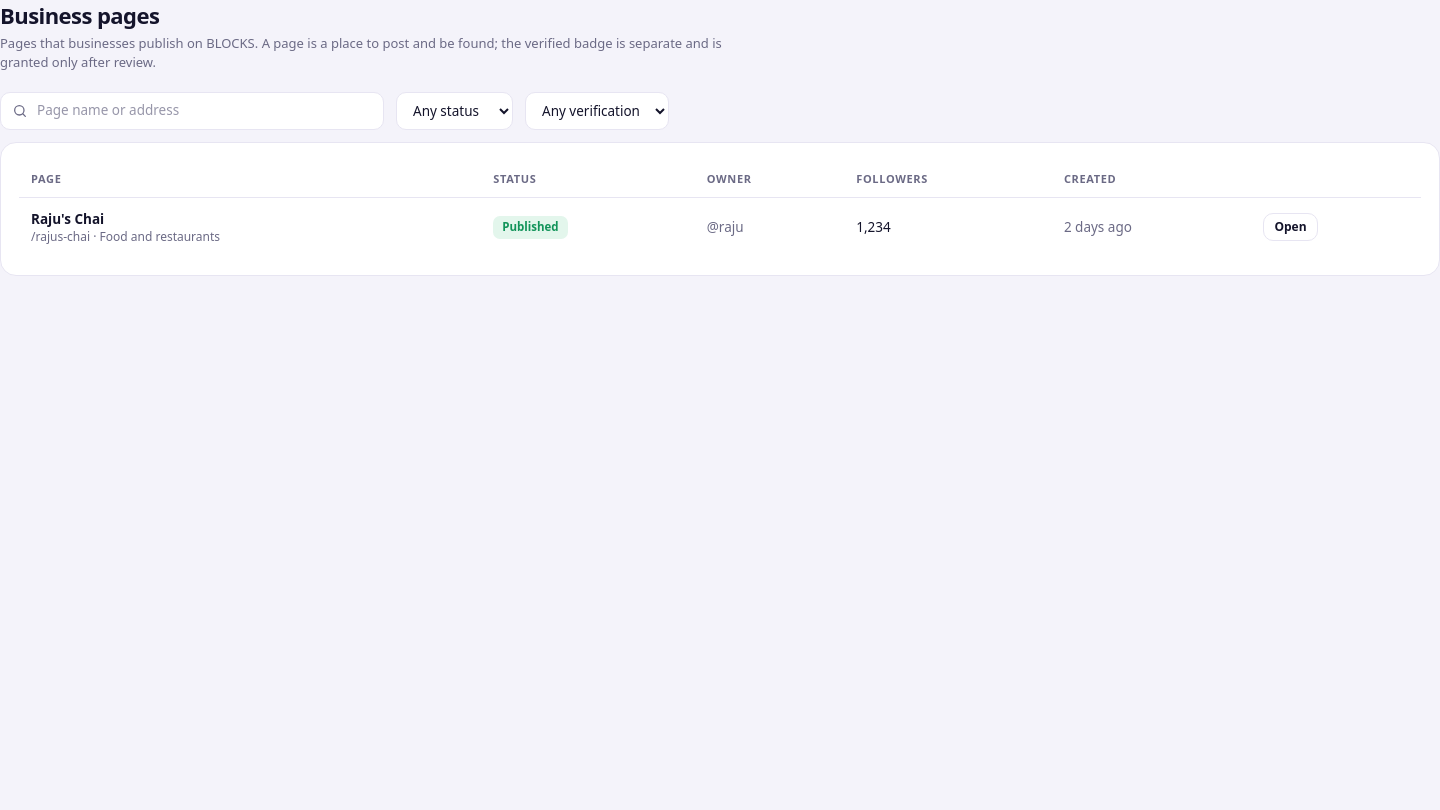
business pages › shows the page, its campaigns and its verification history
The width and height of the screenshot is (1440, 810).
Click the button with aria-label "Open Raju" at {"x": 1291, "y": 227}, box [1264, 213, 1318, 241]
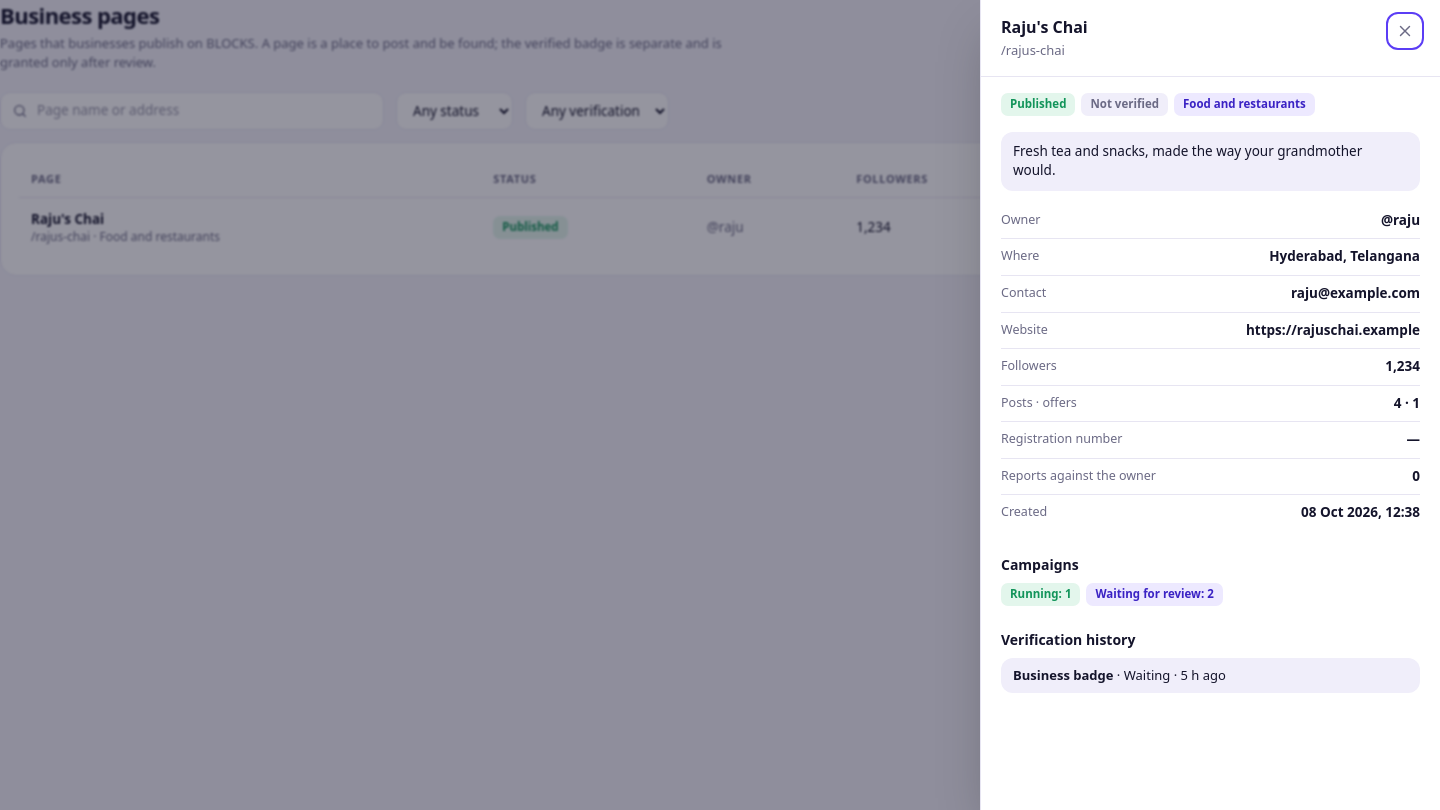
Expected: the dialog "Raju's Chai" is shown, [980, 0, 1439, 809]
Expected: the text "Fresh tea and snacks, made the way your grandmother would." is shown, [1001, 132, 1420, 191]
Expected: the text "Running: 1" is shown, [1001, 583, 1080, 606]
